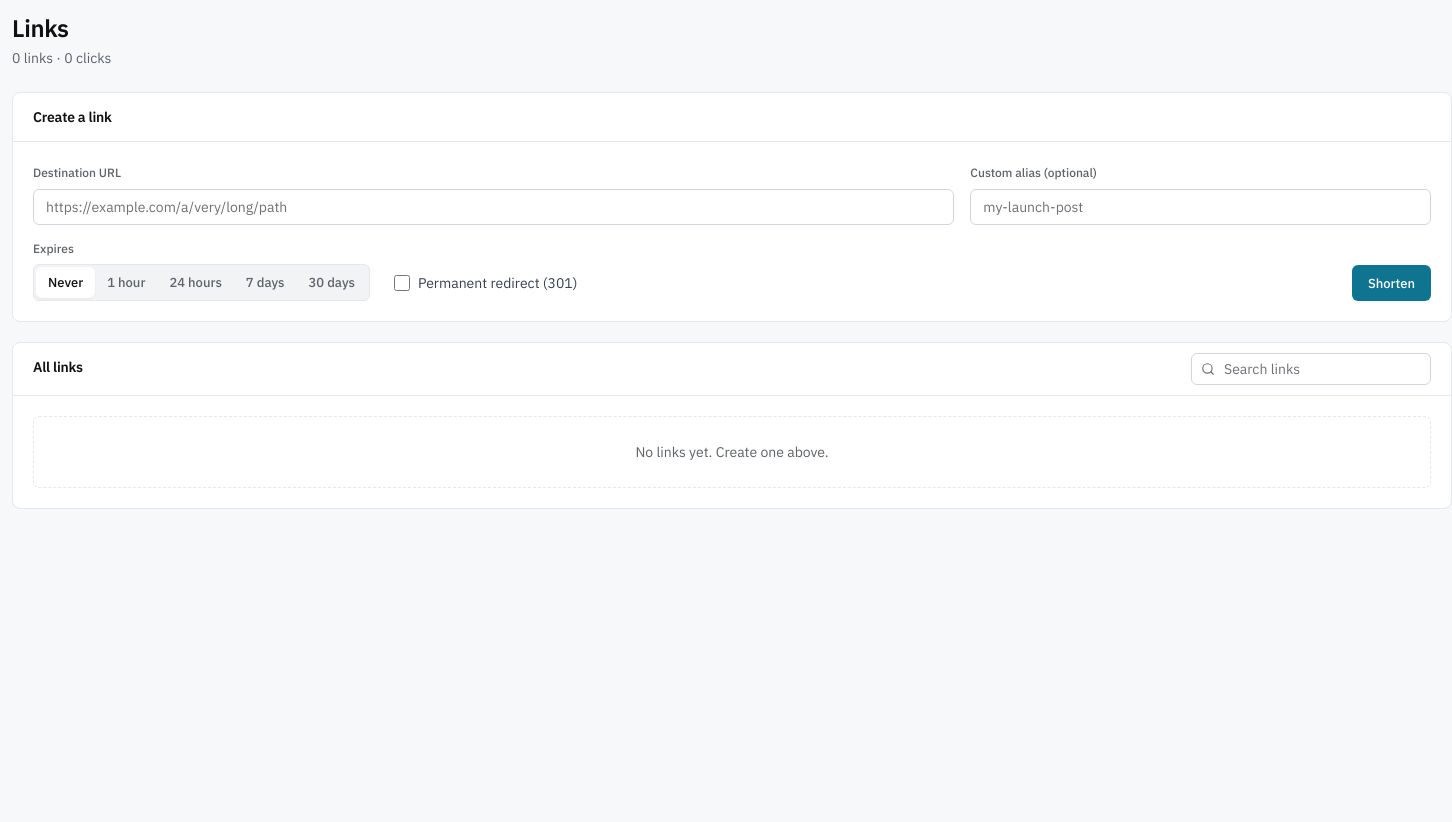
Test: Links page › sends permanent: true when the 301 checkbox is ticked
expect the text "No links yet. Create one above." is shown: met, box [33, 416, 1431, 488]
Click the checkbox with test id "permanent-toggle" at (402, 283), box [394, 275, 410, 291]
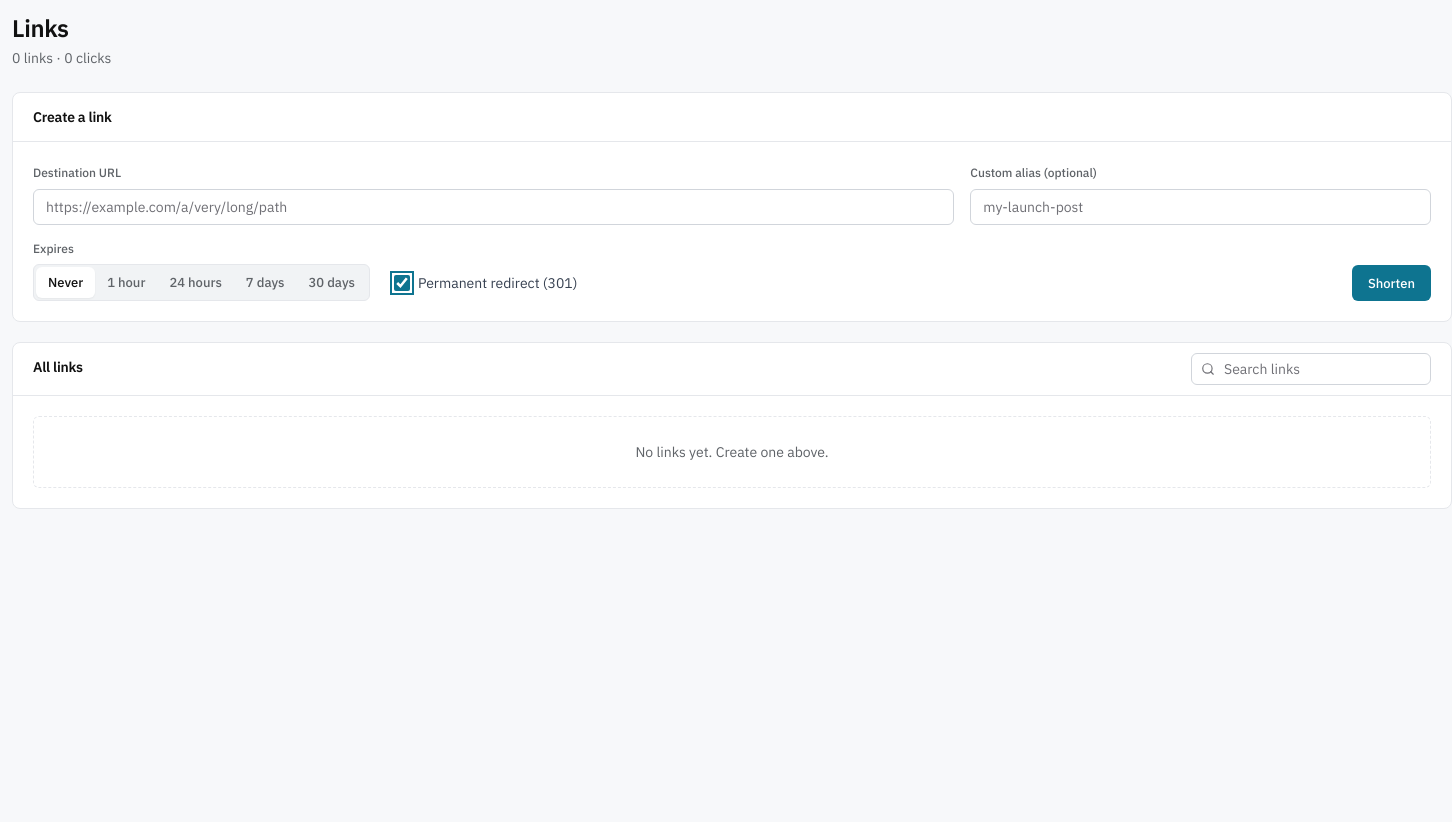
expect the checkbox with test id "permanent-toggle" is checked: met, box [394, 275, 410, 291]
Type "https://example.com/x" into the field labelled "Destination URL" at (494, 207), box [33, 189, 954, 225]
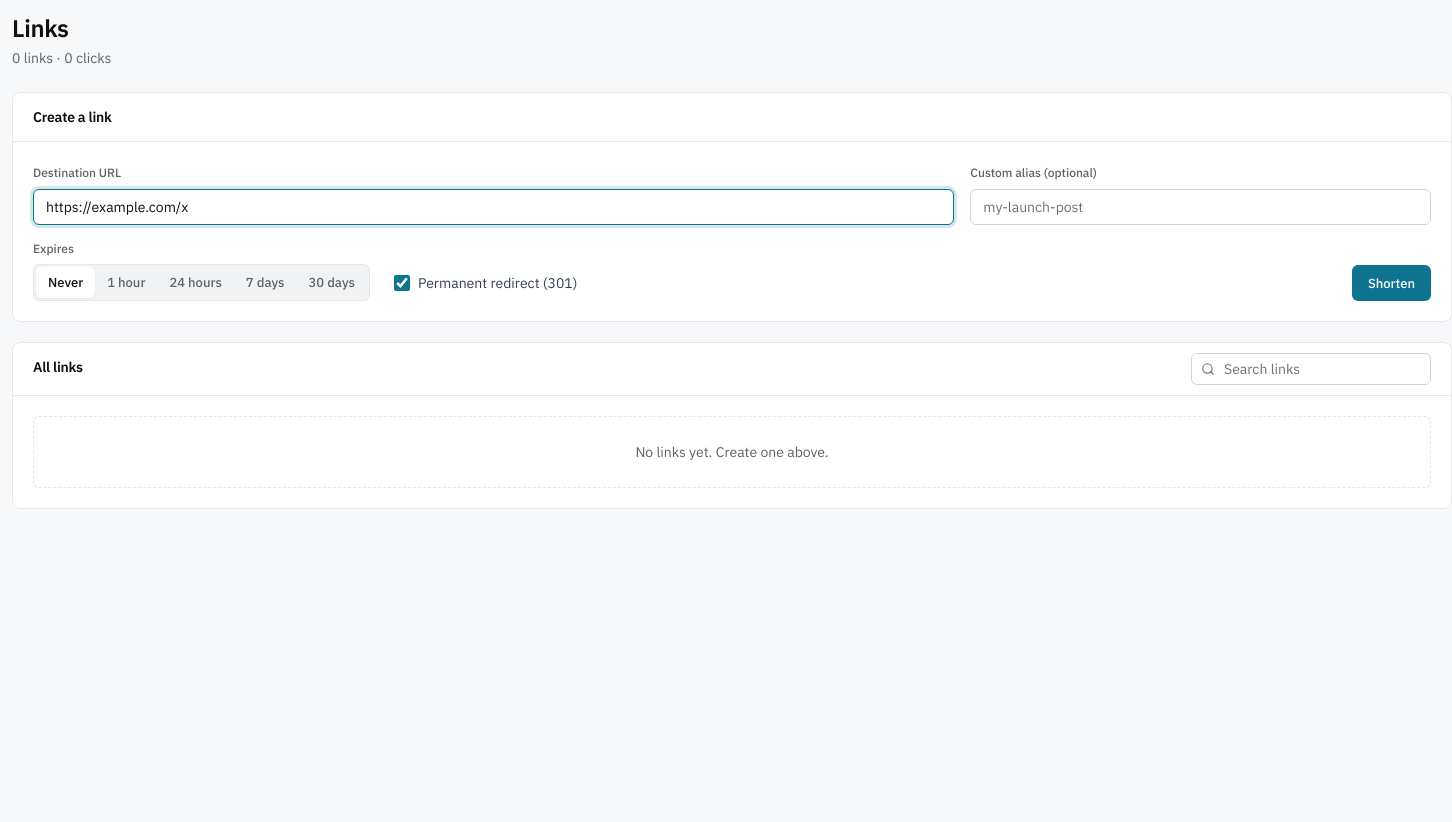
Click the button with test id "shorten-submit" at (1391, 283), box [1352, 265, 1431, 301]
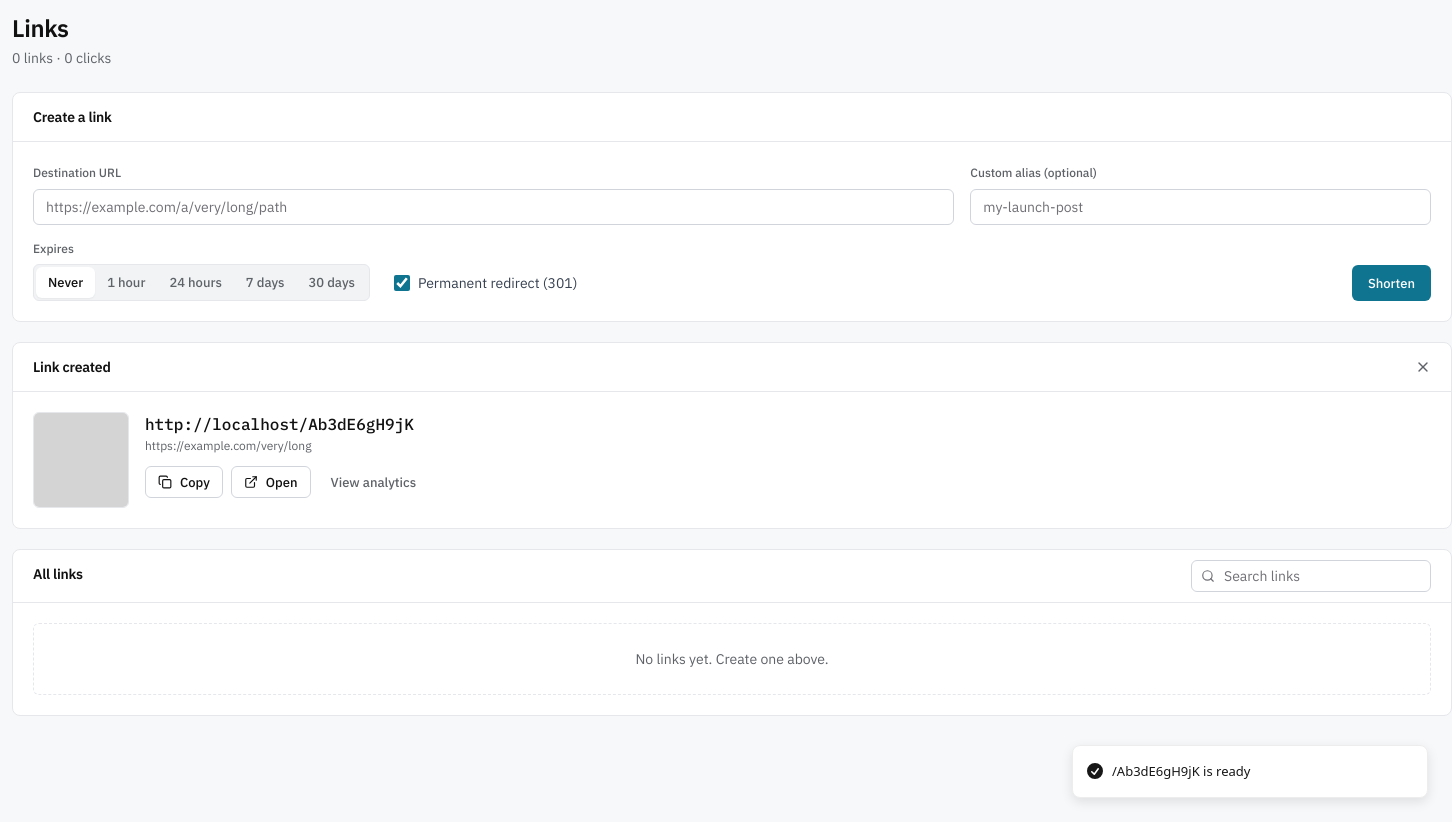
expect the text "http://localhost/Ab3dE6gH9jK" is shown: met, box [145, 414, 414, 434]
